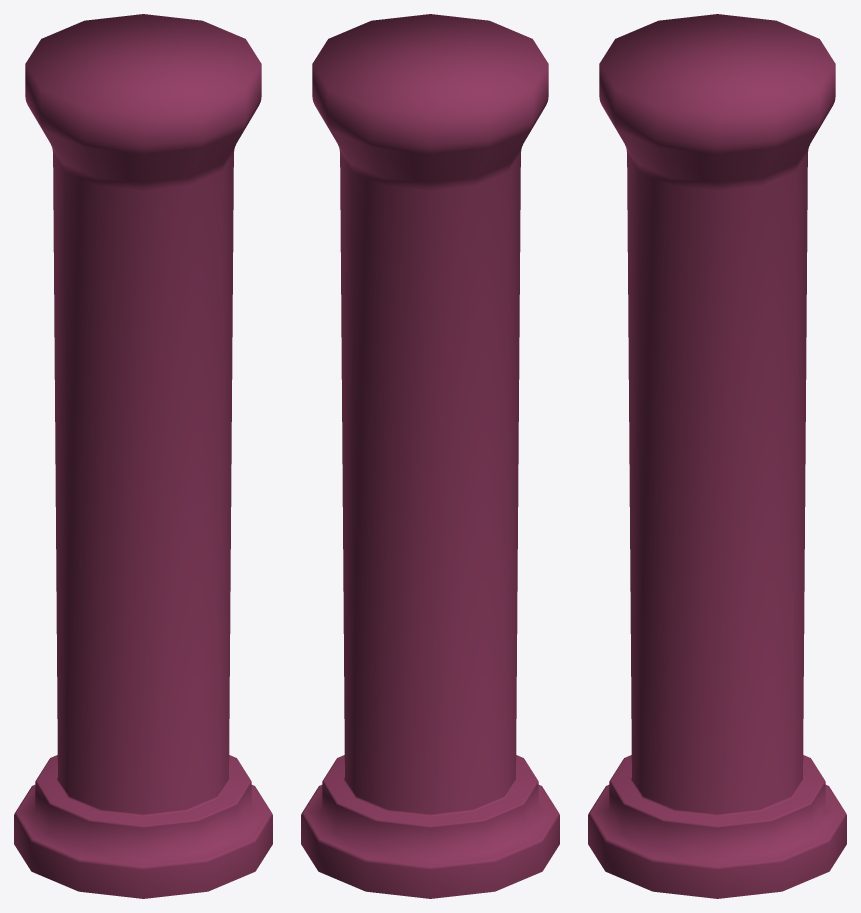
The picture shows the model from 3 angles, left to right: view 1: azimuth 30°, elevation 25°; view 2: azimuth 150°, elevation 25°; view 3: azimuth 270°, elevation 25°; orthographic projection.
Visible parts, largest first — view 1: 기둥2_low; view 2: 기둥2_low; view 3: 기둥2_low.
Part boxes in pixels (x1,y1,x2,y2): 기둥2_low: (14,14,272,898); 기둥2_low: (301,14,559,898); 기둥2_low: (588,14,846,898).
Size of the model in its own units: 109 by 364 by 109.
